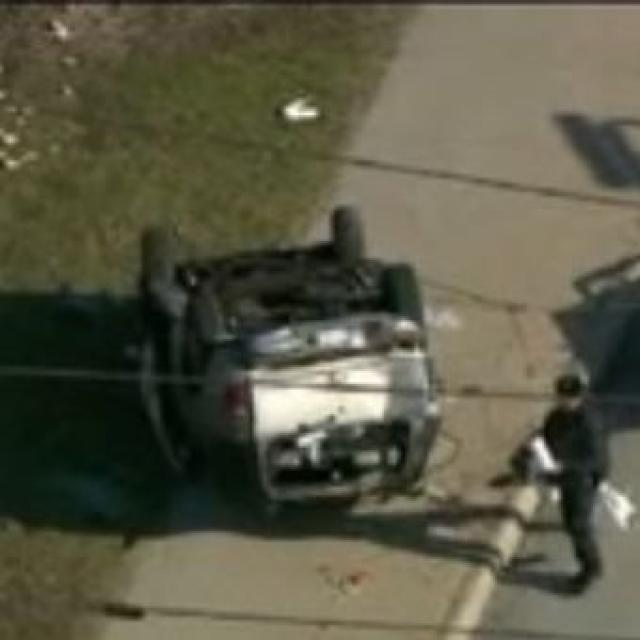traffic_incident: (132, 203, 435, 510)
